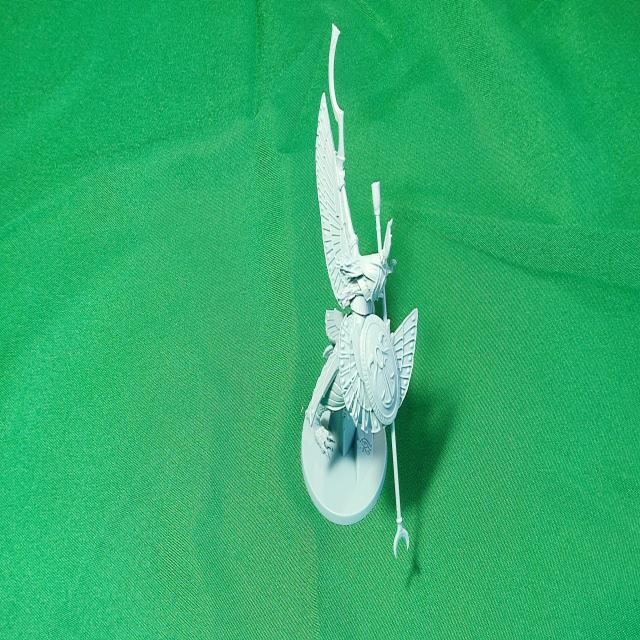isis: (291, 16, 429, 556)
